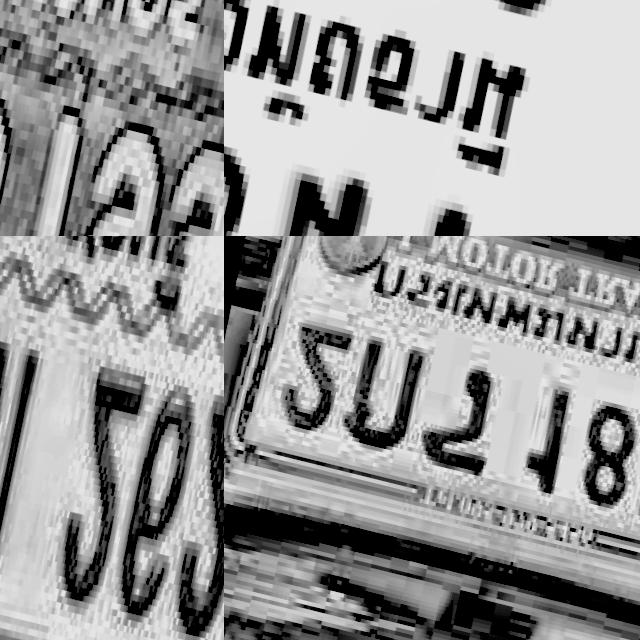license-plate: (224, 236, 640, 626), (224, 0, 640, 236), (0, 236, 224, 640), (0, 0, 224, 236)
